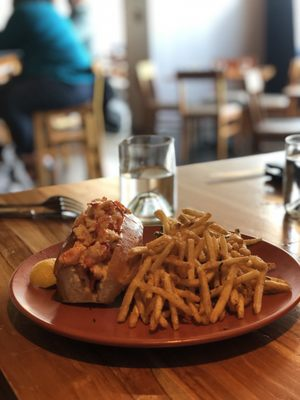burger: (0, 195, 84, 220)
pizza: (118, 134, 177, 222), (283, 134, 300, 220)
sandwich: (0, 195, 84, 220)
